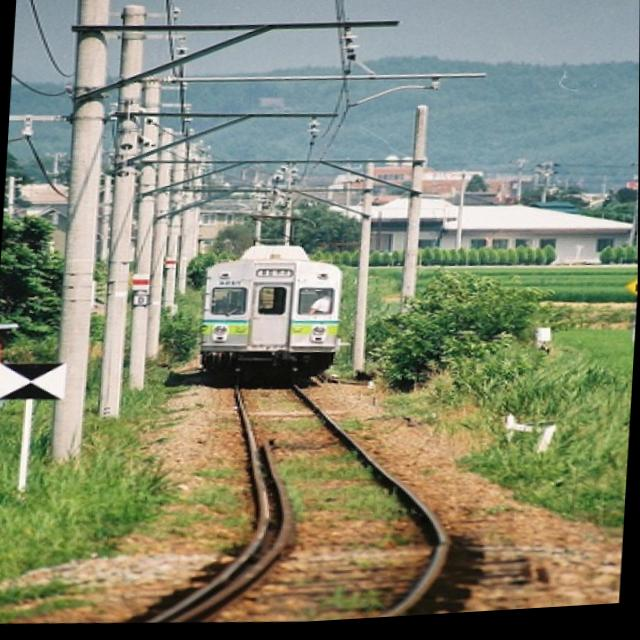cowFace: (193, 246, 355, 391)
